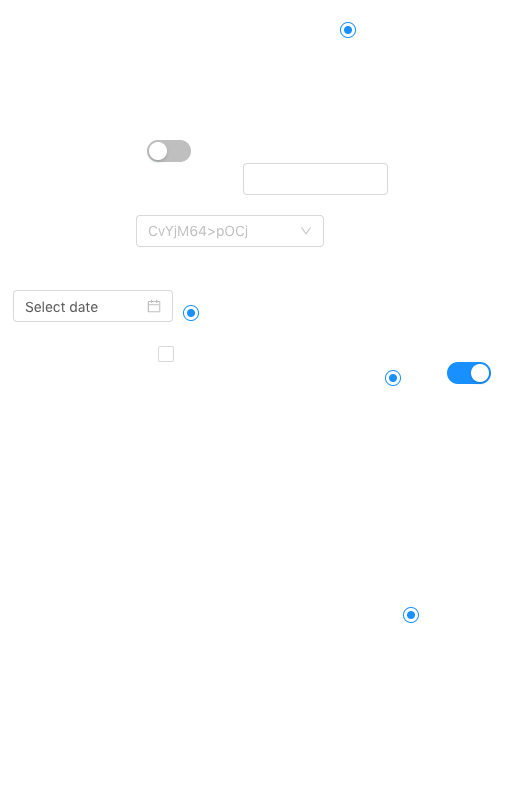Checkbox: (158, 343, 174, 364)
DatePicker: (13, 290, 173, 322)
Input: (243, 163, 388, 195)
Radio: (403, 604, 419, 624), (385, 367, 401, 387), (183, 302, 199, 322), (340, 19, 356, 39)
Select: (136, 215, 324, 247)
Switch: (447, 361, 491, 385), (147, 139, 191, 163)
